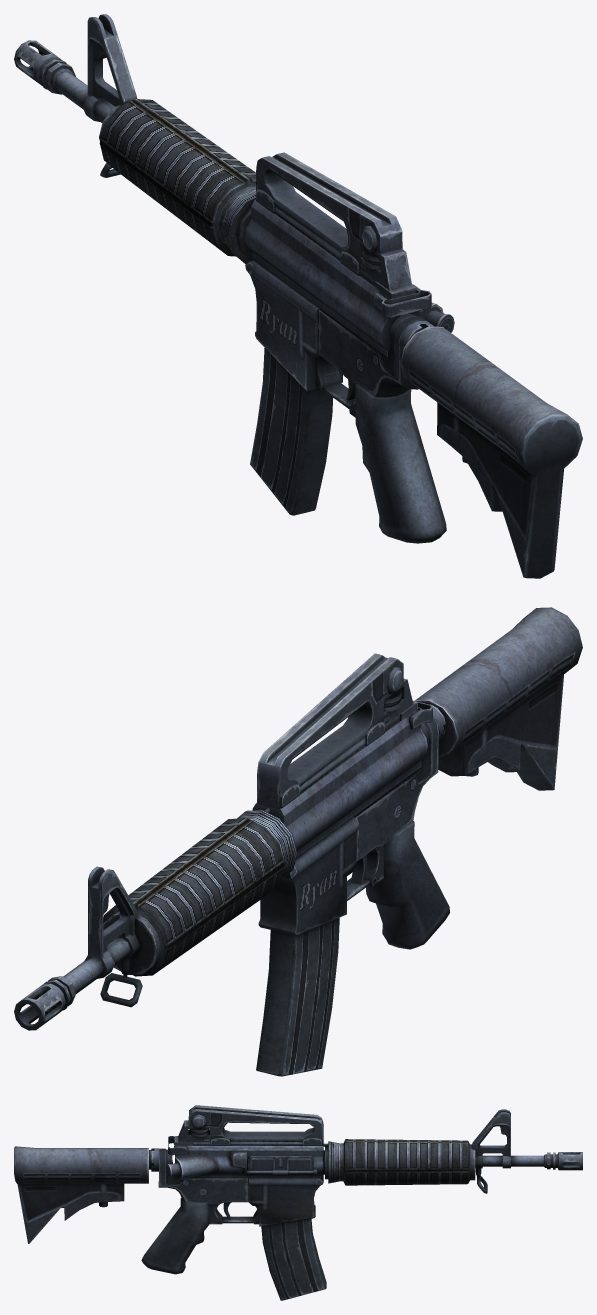
The picture shows the model from 3 angles, top to bottom: view 1: azimuth 30°, elevation 25°; view 2: azimuth 150°, elevation 25°; view 3: azimuth 270°, elevation 25°; orthographic projection. The views are drawn at different scales.
Visible parts, largest first — view 1: m4a1; view 2: m4a1; view 3: m4a1.
Part boxes in pixels (x1,y1,x2,y2): m4a1: [14, 14, 582, 578]; m4a1: [14, 607, 582, 1076]; m4a1: [14, 1105, 582, 1300].
Size of the model in its own units: 0.4603 by 1.85 by 5.
Materials: 1 (1 with a texture image).
